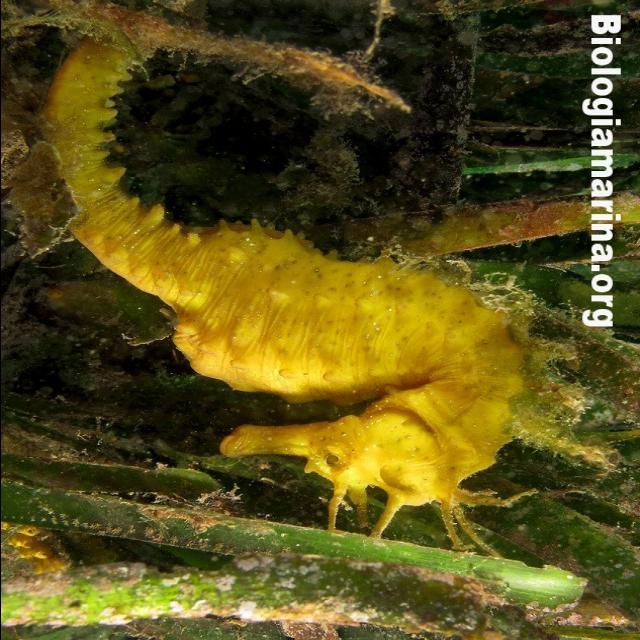Guttu: (212, 398, 515, 518)
